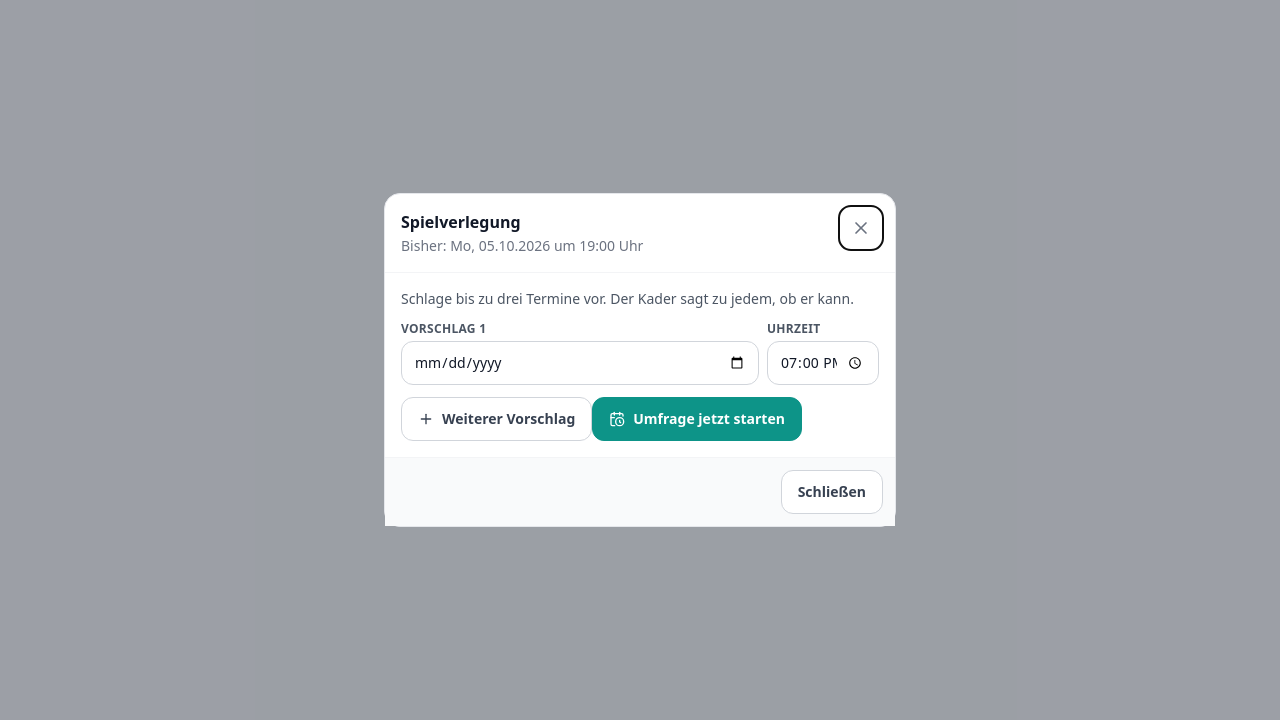
Test case: RescheduleDialog › erlaubt bis zu drei Vorschläge
This screenshot has width=1280, height=720.
Expected: the date field labelled "Vorschlag 1" is shown, [401,341,759,385]
Click the button "Weiterer Vorschlag": x=497, y=419 [401,397,592,441]
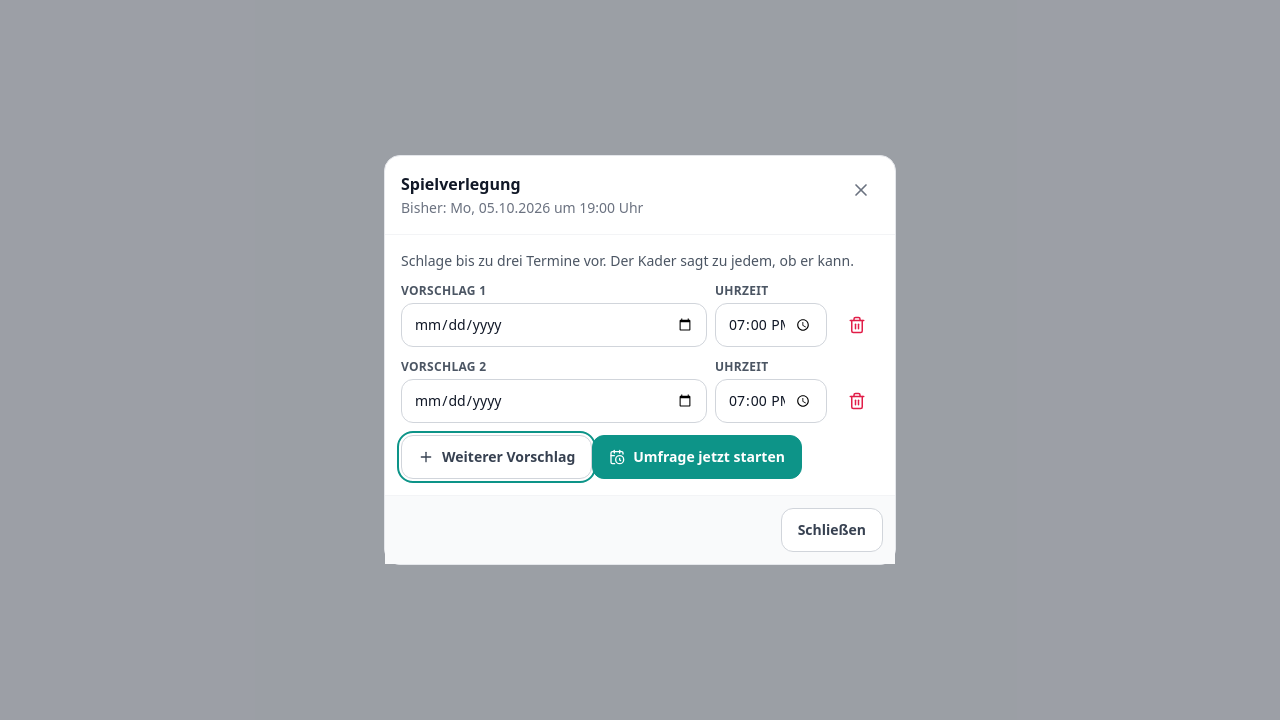
Click the button "Weiterer Vorschlag": x=497, y=457 [401,435,592,479]
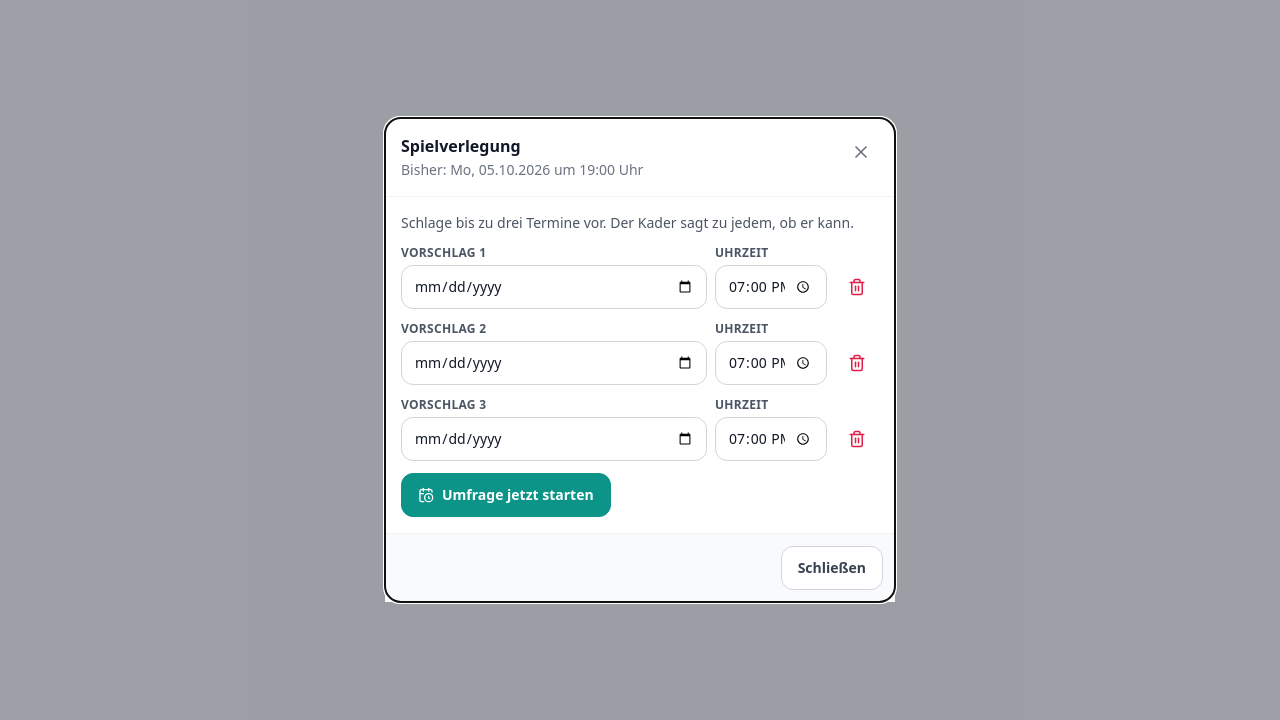
Expected: the date field labelled "Vorschlag 3" is shown, [401,417,707,461]
Expected: the button "Weiterer Vorschlag" is gone
